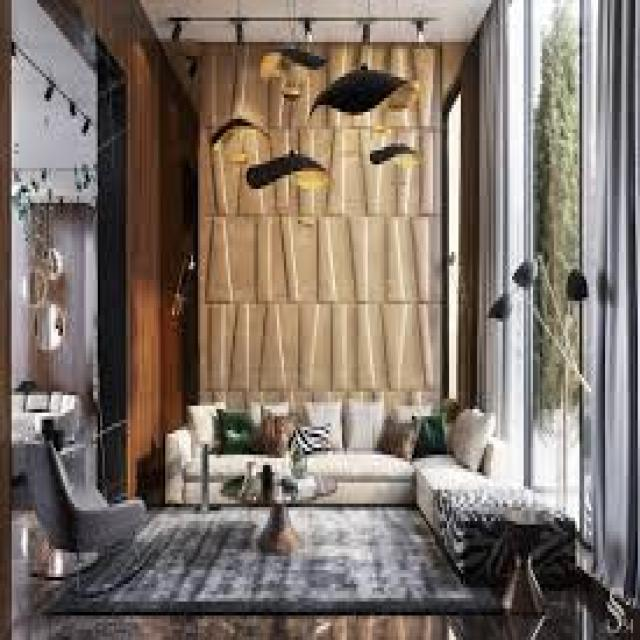Chair: (17, 438, 150, 582)
Lamp: (154, 11, 456, 180)
Sofa: (166, 390, 493, 506)
Table: (232, 477, 342, 548)
